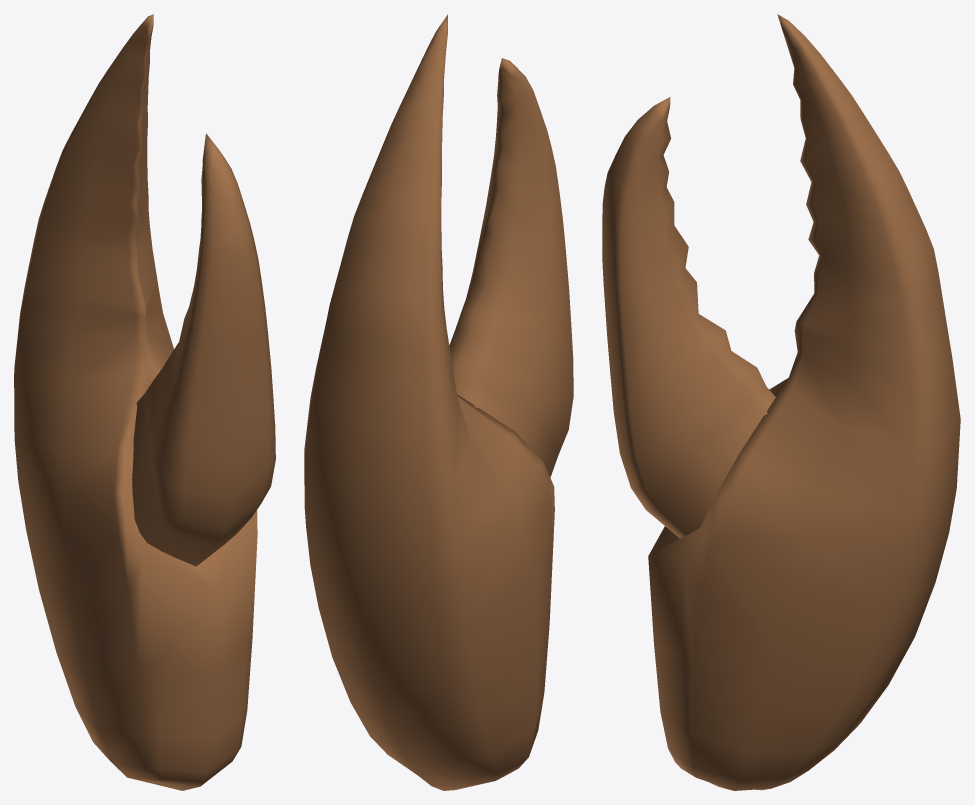
Rendered from Crusty Crab.fbx.
3 views of the same model, side by side, from view 1: azimuth 30°, elevation 25°; view 2: azimuth 150°, elevation 25°; view 3: azimuth 270°, elevation 25° (orthographic). The views are drawn at different scales.
Parts seen in each view (by area): view 1: Crusty Crab - juantmessina (MAVG); view 2: Crusty Crab - juantmessina (MAVG); view 3: Crusty Crab - juantmessina (MAVG).
Part boxes in pixels (x1,y1,x2,y2): Crusty Crab - juantmessina (MAVG): (14, 14, 275, 790); Crusty Crab - juantmessina (MAVG): (304, 14, 573, 790); Crusty Crab - juantmessina (MAVG): (602, 14, 960, 790).
Size of the model in its own units: 27.72 by 119 by 49.64.
